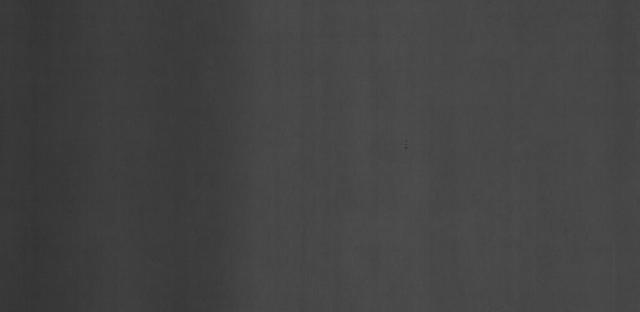inclusion: (398, 135, 417, 156)
